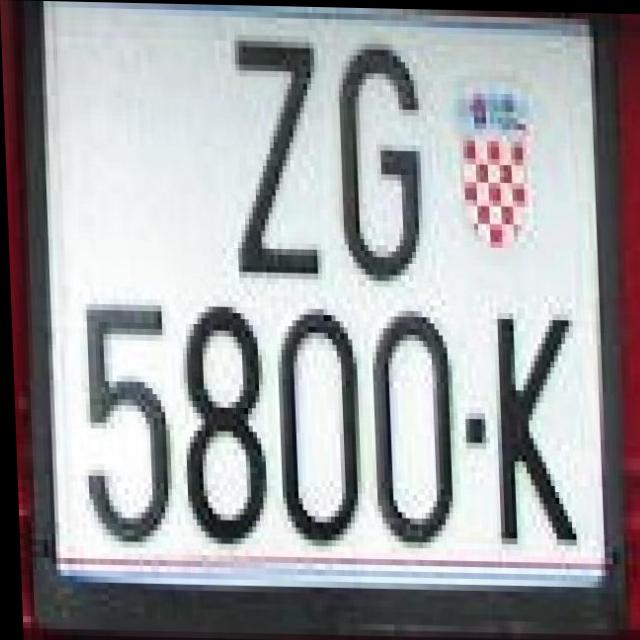0: (364, 291, 454, 547), (273, 295, 359, 545)
5: (71, 286, 166, 536)
8: (170, 293, 265, 550)
G: (329, 29, 431, 280)
K: (482, 299, 581, 555)
Z: (222, 21, 320, 272)
